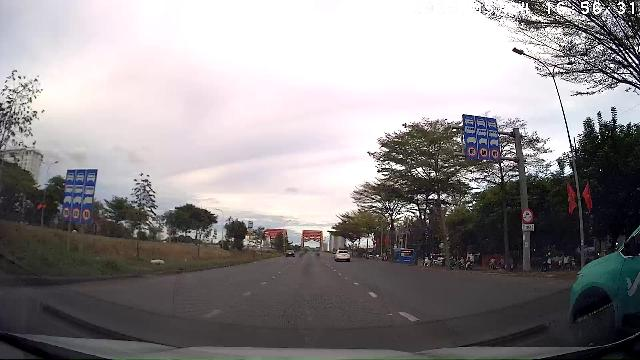127-toc-do-toi-da-60: (467, 146, 477, 157), (480, 147, 488, 158), (491, 148, 499, 159)
